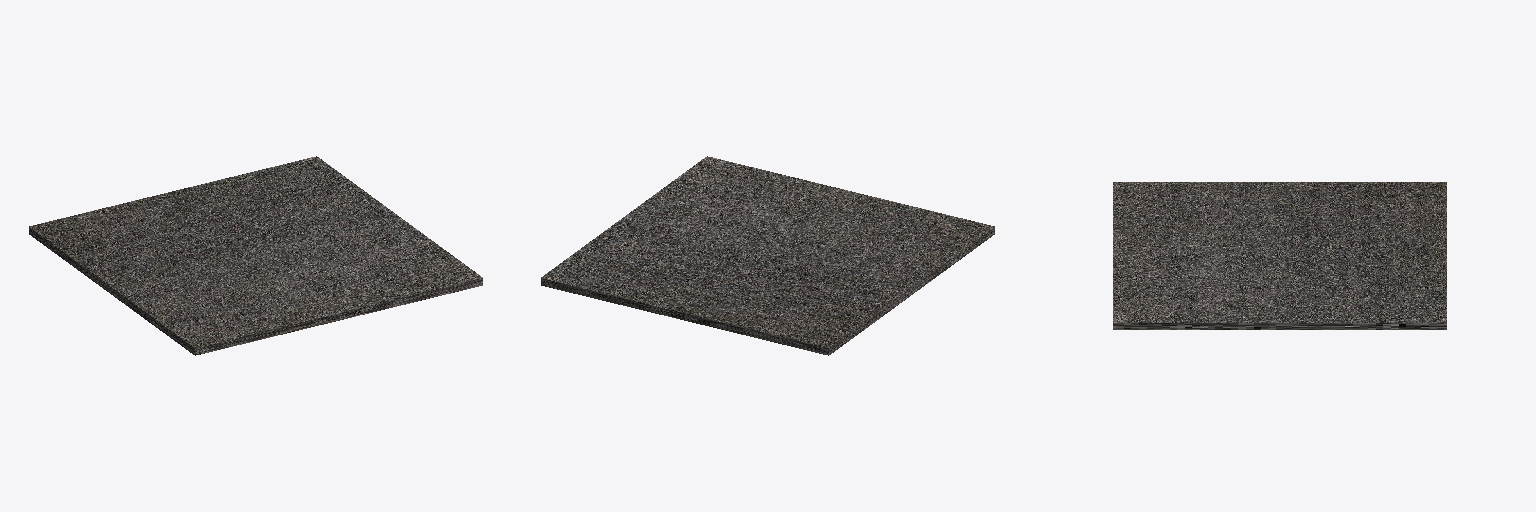
3 views of the same model, side by side, from view 1: azimuth 30°, elevation 25°; view 2: azimuth 150°, elevation 25°; view 3: azimuth 270°, elevation 25° (orthographic).
Parts seen in each view (by area): view 1: Cube.006_Cube.005; view 2: Cube.006_Cube.005; view 3: Cube.006_Cube.005.
Boxes of the visible parts, box(x1,y1,x2,y2) form: Cube.006_Cube.005: box(29, 156, 482, 355); Cube.006_Cube.005: box(541, 156, 994, 355); Cube.006_Cube.005: box(1113, 182, 1446, 329).
Bounding box in the file's own units: 11.55 × 0.2848 × 11.55.
Materials: 1 (1 with a texture image).